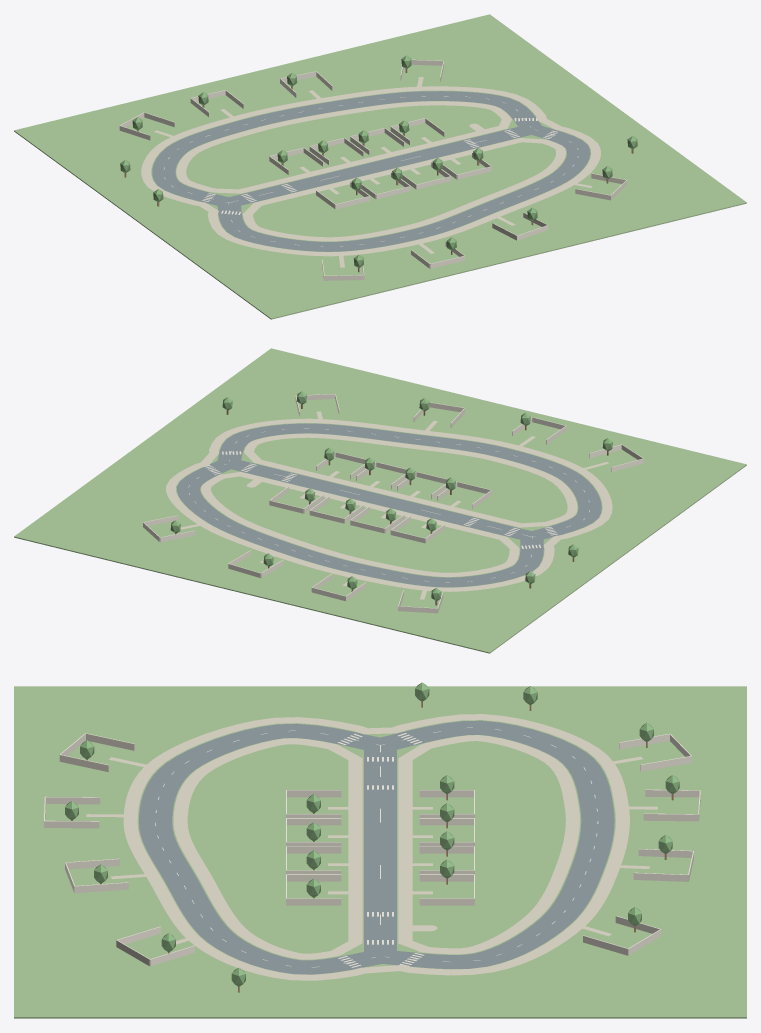
Rendered from neighbourhood.glb.
3 renders of one model, top to bottom at view 1: azimuth 30°, elevation 25°; view 2: azimuth 150°, elevation 25°; view 3: azimuth 270°, elevation 25°, orthographic. The views are drawn at different scales.
Parts seen in each view (by area): view 1: village green, High Street, continuous pavement, centre dash, Icosphere; view 2: village green, High Street, continuous pavement, centre dash, Icosphere; view 3: village green, High Street, continuous pavement, centre dash, Icosphere.
Part boxes in pixels (<box>): village green: <box>14,14,746,319</box>; High Street: <box>152,91,590,251</box>; continuous pavement: <box>141,77,600,267</box>; centre dash: <box>119,59,626,280</box>; Icosphere: <box>120,55,637,267</box>; village green: <box>14,348,746,653</box>; High Street: <box>176,423,601,587</box>; continuous pavement: <box>166,411,612,599</box>; centre dash: <box>143,394,643,613</box>; Icosphere: <box>170,391,612,600</box>; village green: <box>14,686,746,1018</box>; High Street: <box>139,720,614,974</box>; continuous pavement: <box>86,714,657,980</box>; centre dash: <box>44,727,700,967</box>; Icosphere: <box>65,682,679,986</box>.
Size of the model in its own units: 94 by 3.52 by 88.
